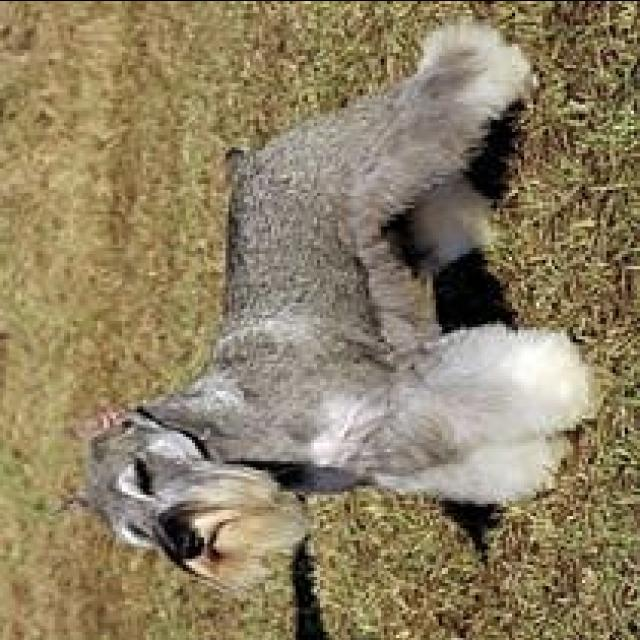standard_schnauzer: (60, 15, 600, 582)
